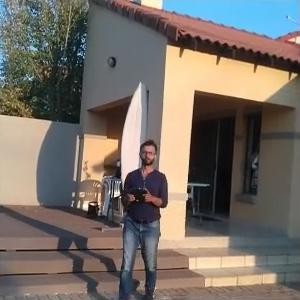follow: (112, 133, 172, 298)
